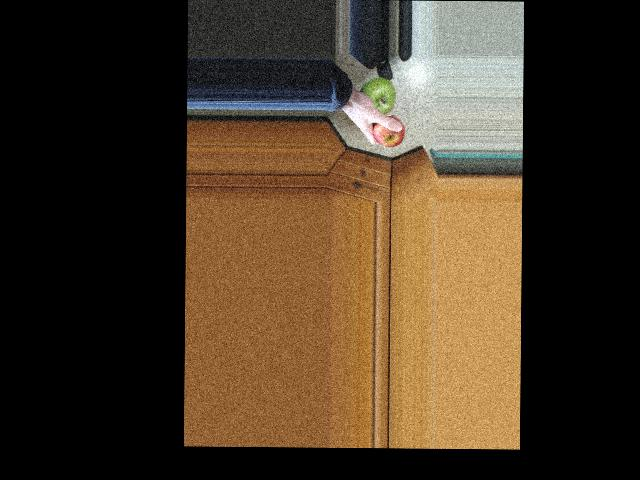apple: (356, 74, 398, 115)
